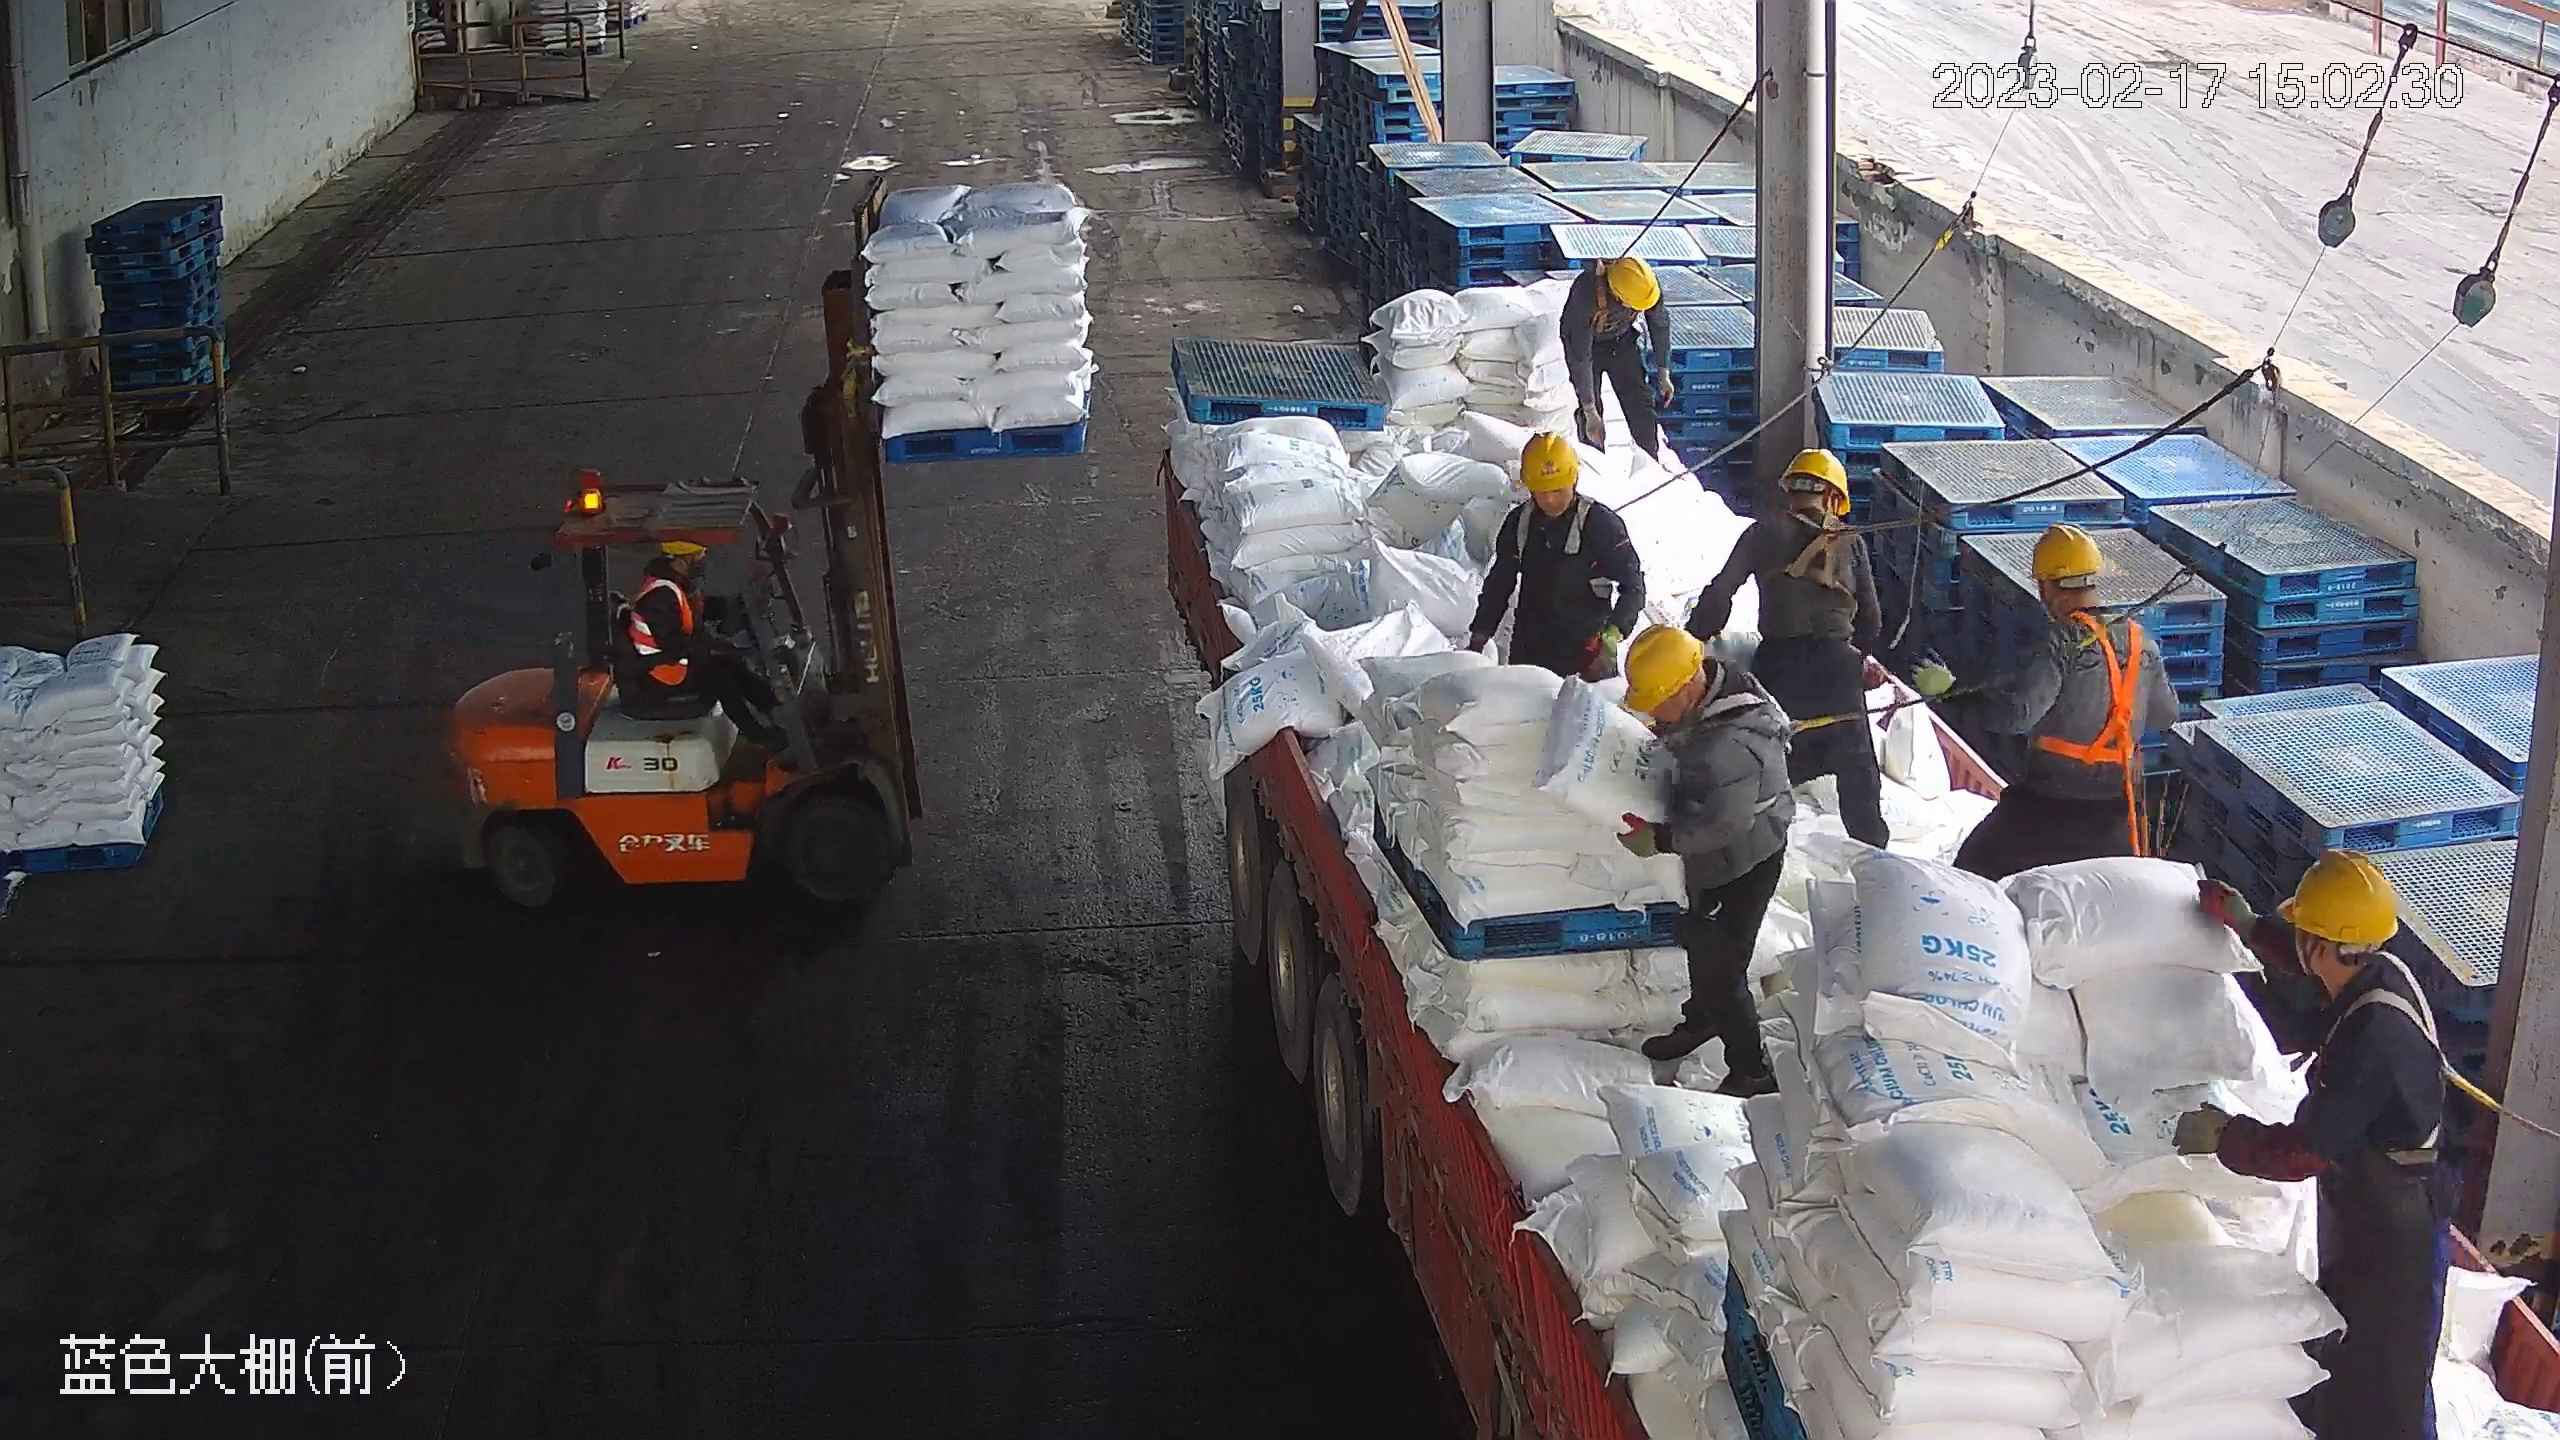belt: (2319, 959, 2491, 1166), (2029, 605, 2171, 771), (1668, 668, 1827, 816), (1763, 503, 1874, 596), (1511, 487, 1602, 554), (1581, 253, 1660, 328)
head: (2260, 845, 2456, 1084), (1613, 621, 1796, 775), (2023, 516, 2163, 677), (1493, 429, 1631, 556), (1743, 442, 1870, 570), (1566, 250, 1663, 327), (633, 545, 710, 620)
helmet: (2271, 846, 2403, 946), (1616, 621, 1710, 715), (1780, 445, 1852, 516), (2025, 520, 2106, 582), (1516, 429, 1582, 491), (1605, 255, 1660, 314)
people: (2168, 844, 2472, 1440), (1931, 512, 2172, 889), (1687, 445, 1905, 851), (1612, 620, 1795, 1103), (1465, 428, 1649, 682), (622, 541, 781, 752), (1558, 250, 1672, 466)
truck: (1101, 146, 2543, 1440)
